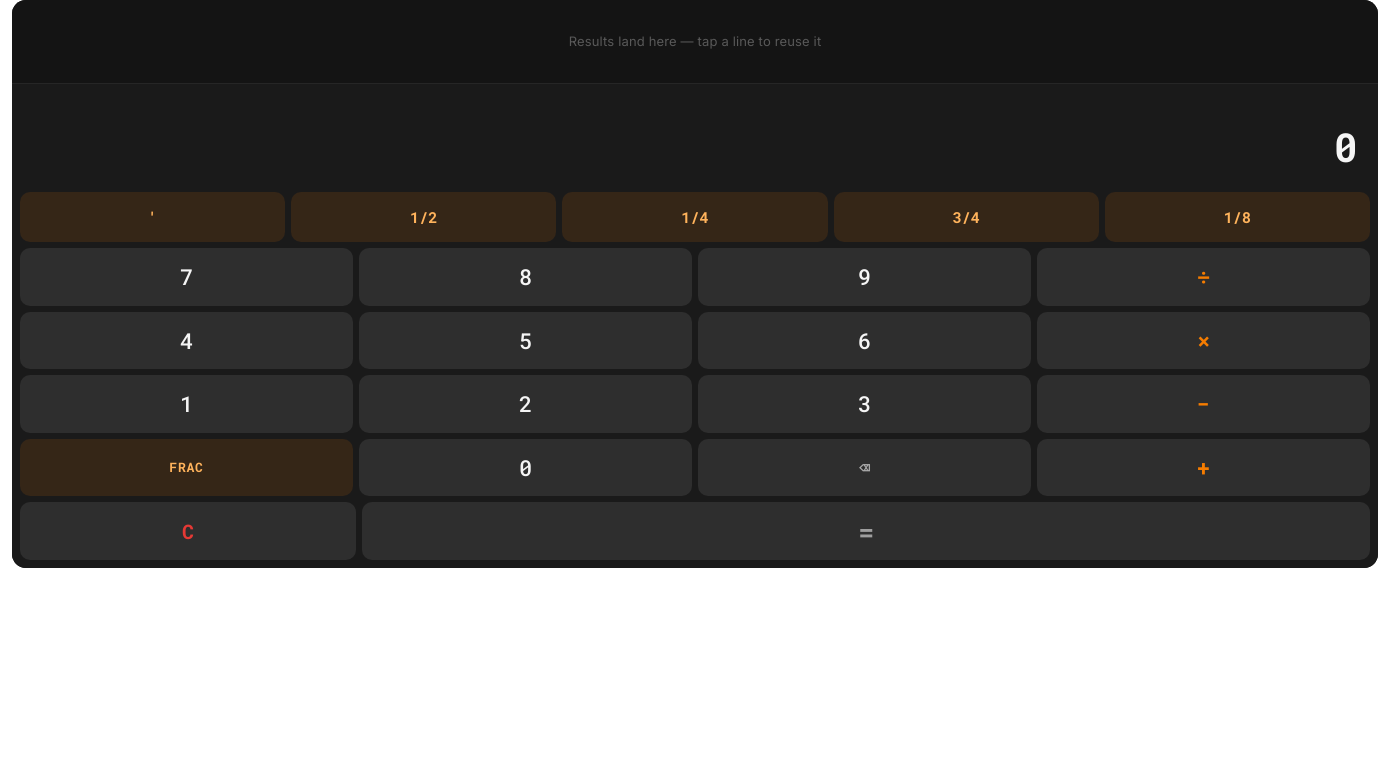
Test case: TapeCalc UI › typing digit after result starts fresh calculation
What coordinates should you click on to do the following:
click the button "8"
I would click on:
 (526, 277)
Its box is left=359, top=248, right=692, bottom=306.
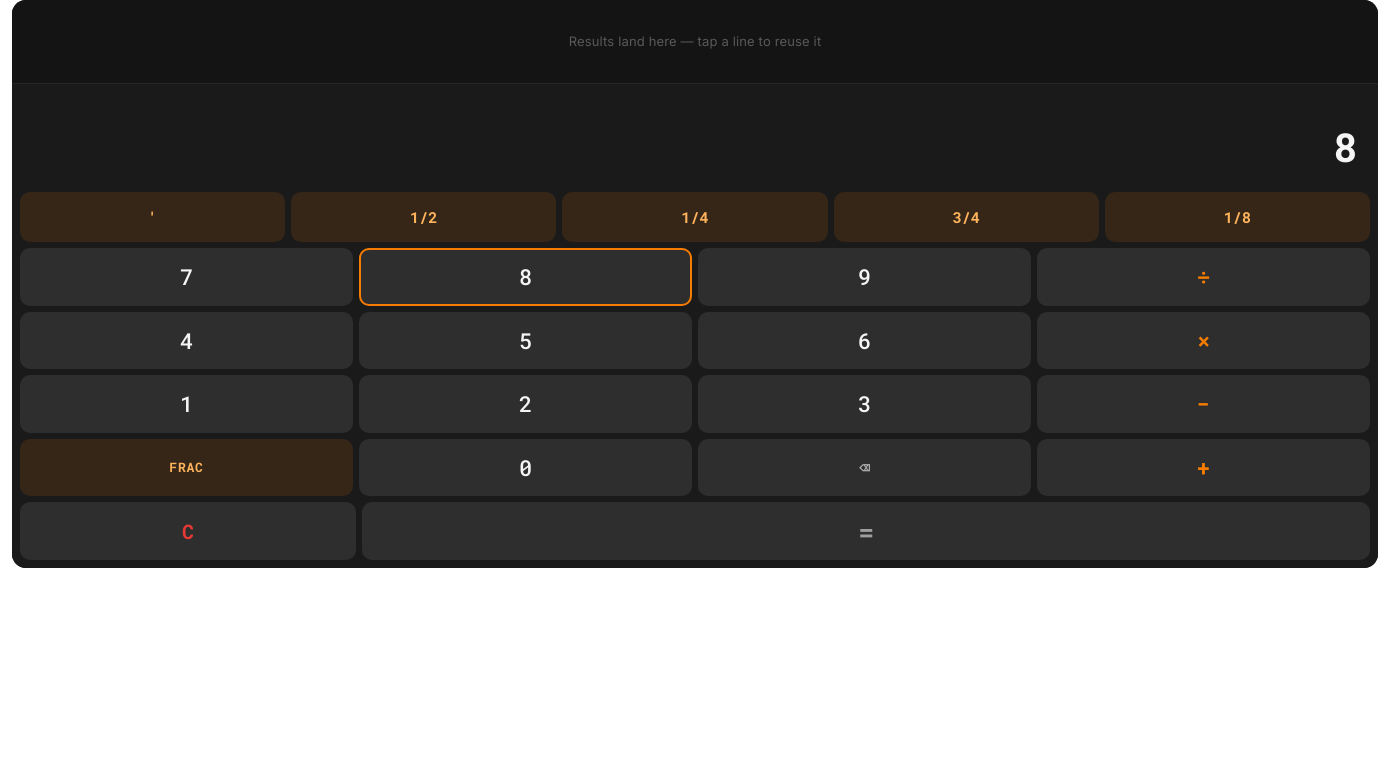
What coordinates should you click on to do the following:
click the button named "add"
I would click on:
 (1204, 468)
Its box is left=1037, top=439, right=1370, bottom=496.
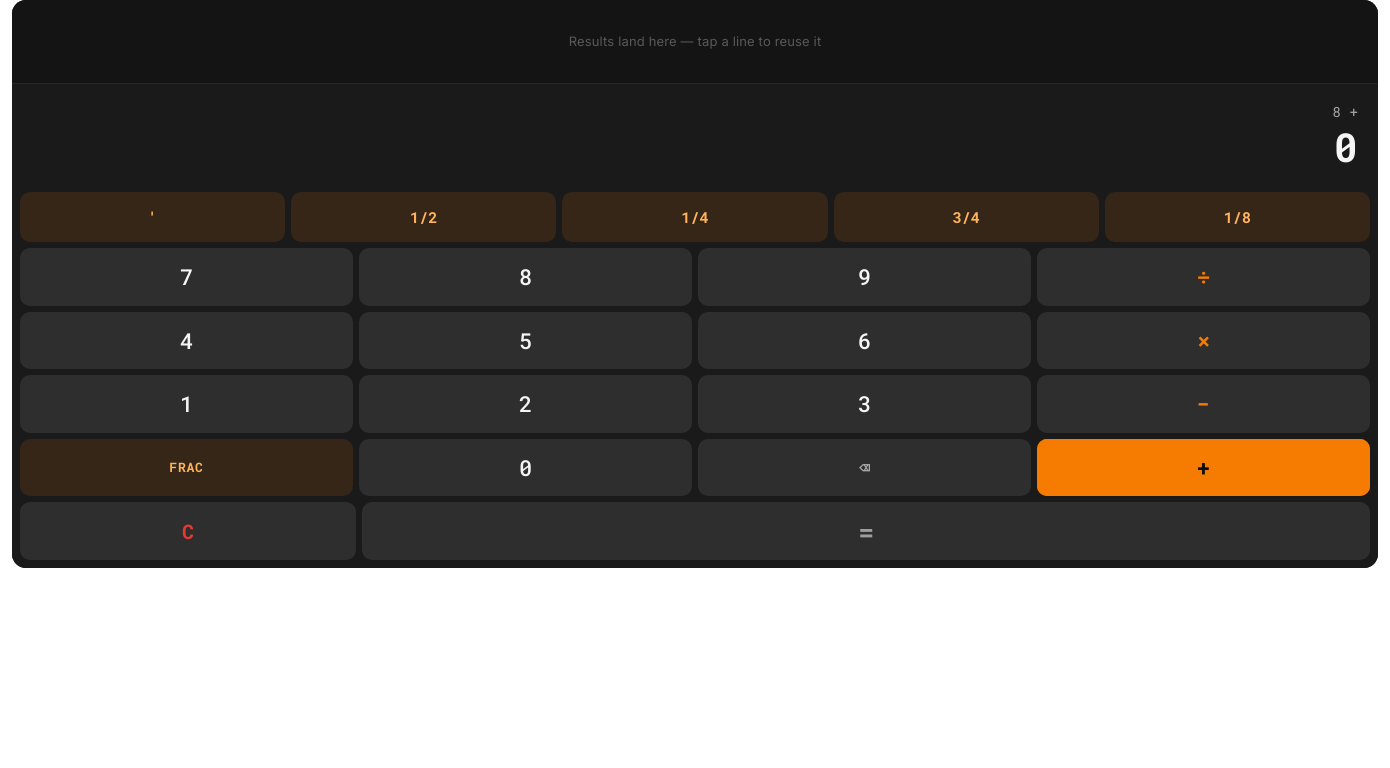
What coordinates should you click on to do the following:
click the button "2"
I would click on:
 (526, 404)
Its box is left=359, top=375, right=692, bottom=433.
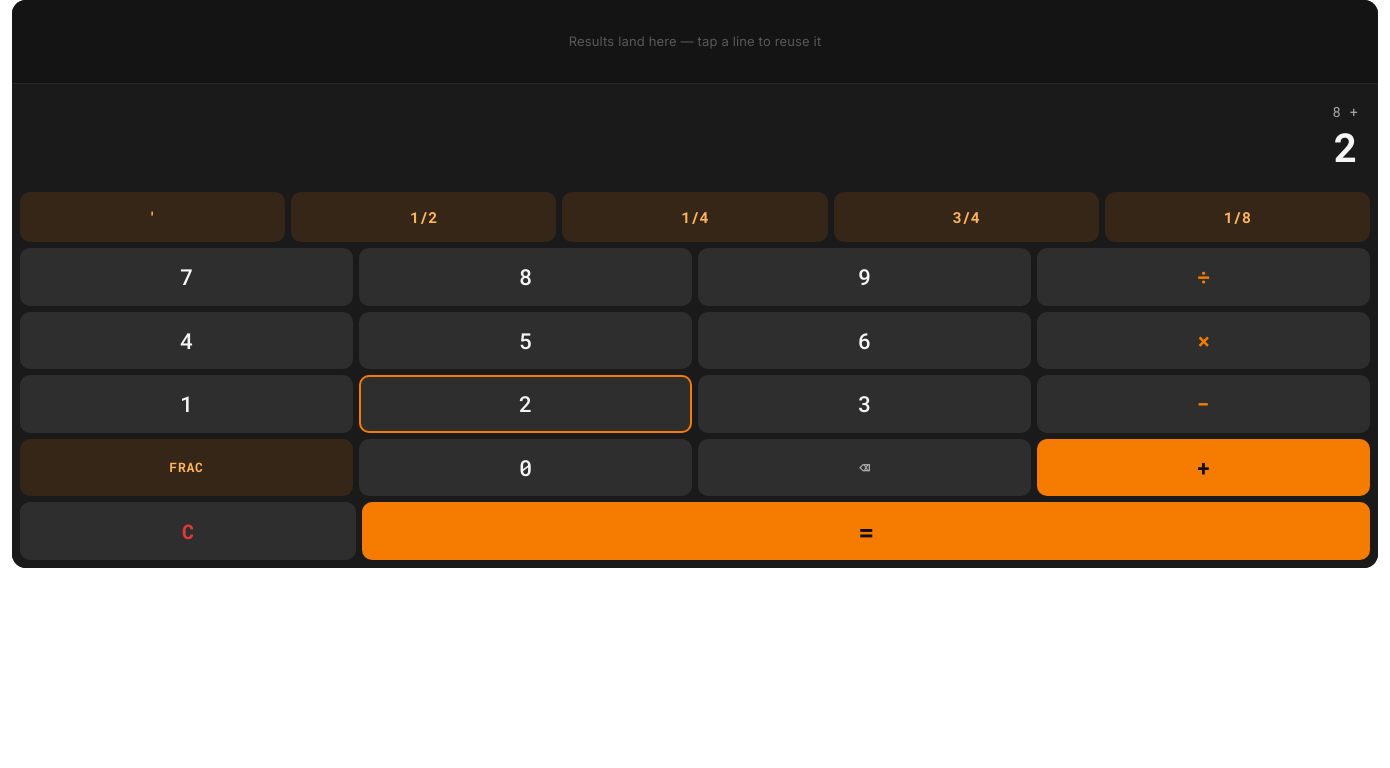
What coordinates should you click on to do the following:
click the button named "calculate"
I would click on:
 (866, 531)
Its box is left=362, top=502, right=1370, bottom=560.
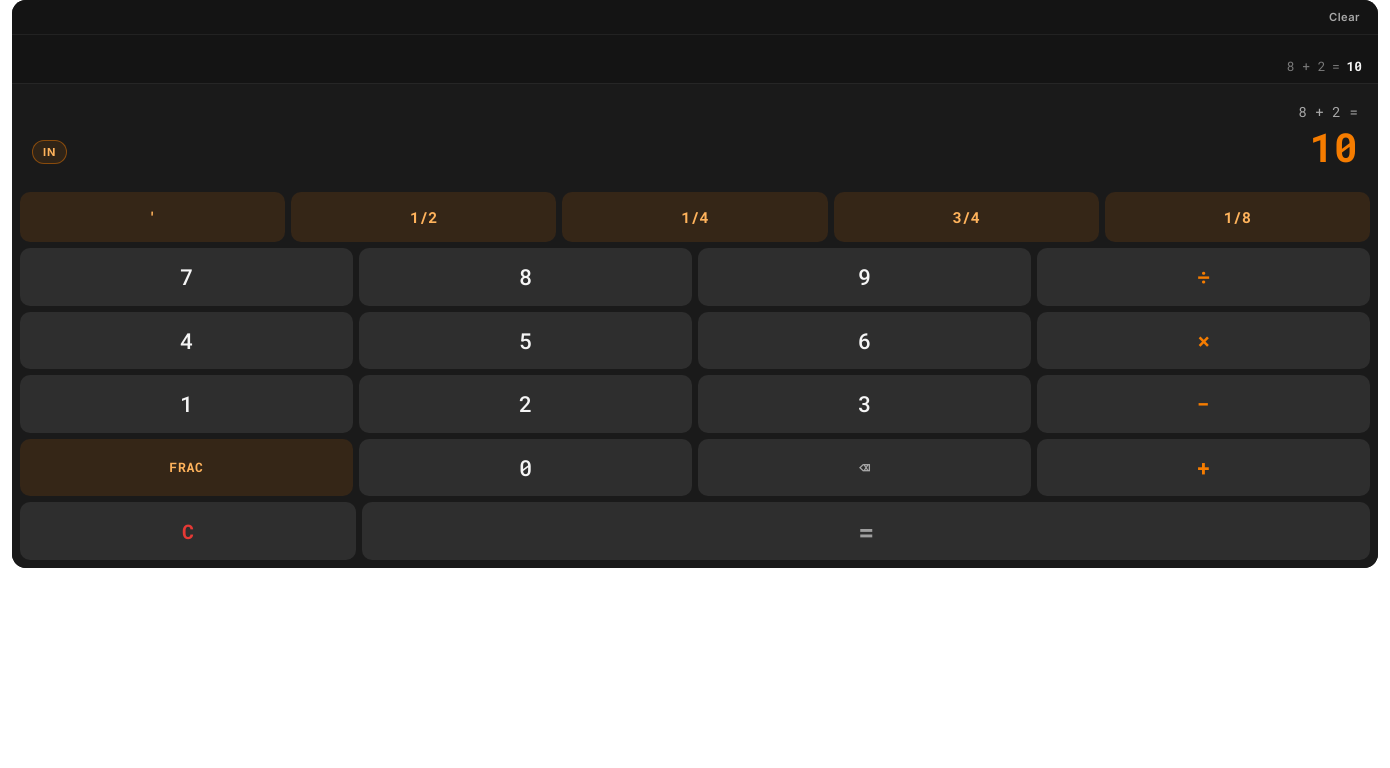
Now the button named "result" reads "10", box left=1310, top=120, right=1358, bottom=173
Note: type "7" — should clear and start fresh
What coordinates should you click on to do the following:
click the button "7"
I would click on:
 (186, 277)
Its box is left=20, top=248, right=353, bottom=306.
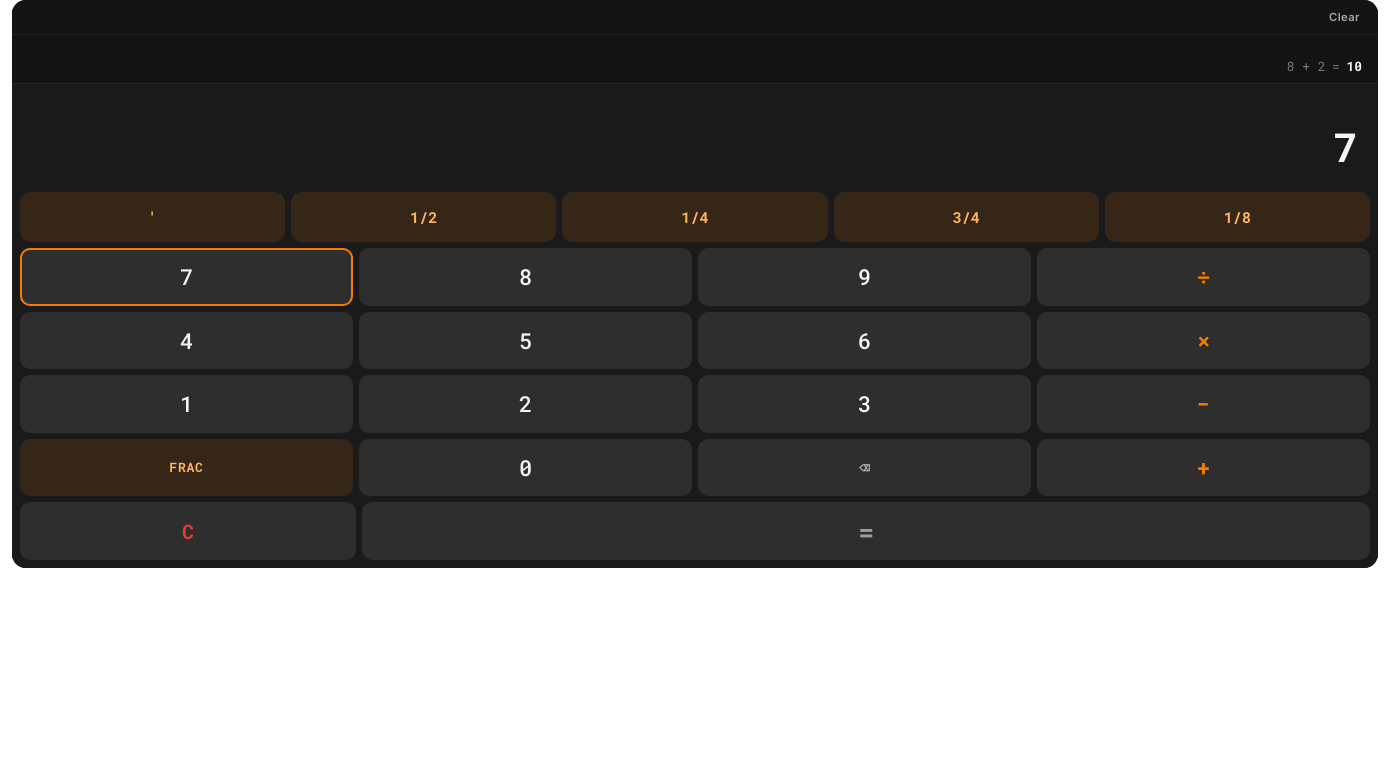
Now the text with test id "display-value" reads "7", box left=1334, top=120, right=1358, bottom=173
